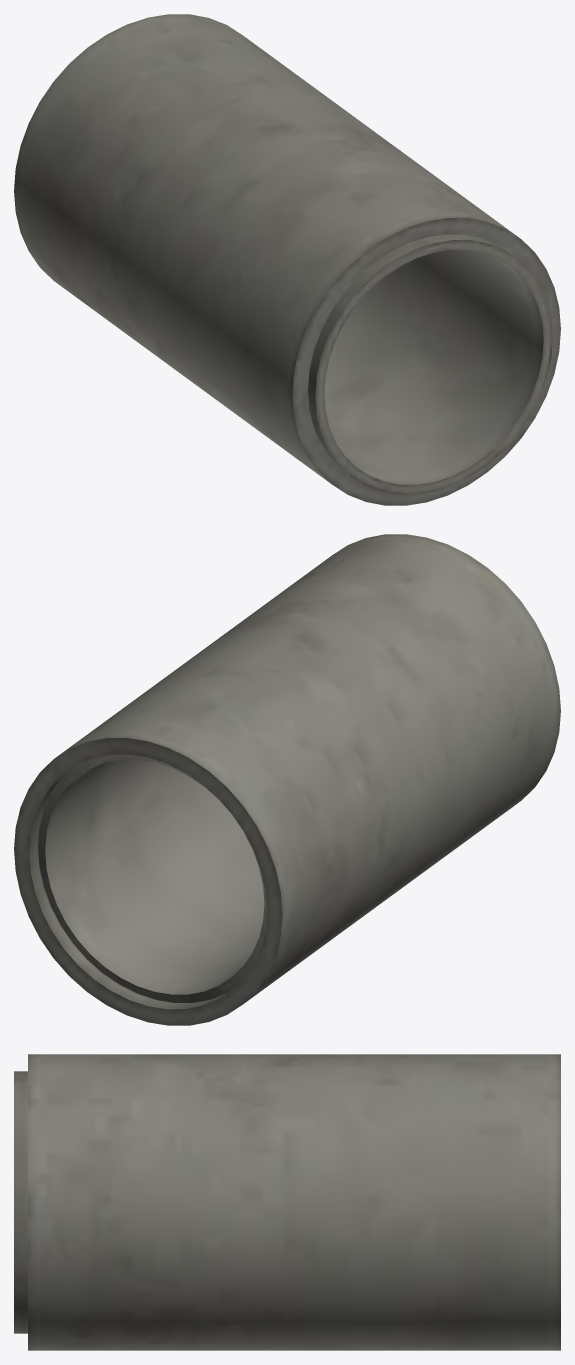
File: SM_ConcretePipe_03_1a19b5.glb
The picture shows the model from 3 angles, top to bottom: view 1: azimuth 30°, elevation 25°; view 2: azimuth 150°, elevation 25°; view 3: azimuth 270°, elevation 25°; orthographic projection. The views are drawn at different scales.
Bounding box in the file's own units: 1.98 × 1.98 × 3.64.
1 material, 1 textured.
